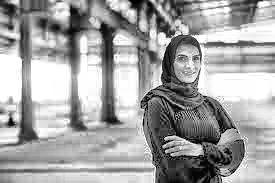happy: (172, 36, 205, 89)
